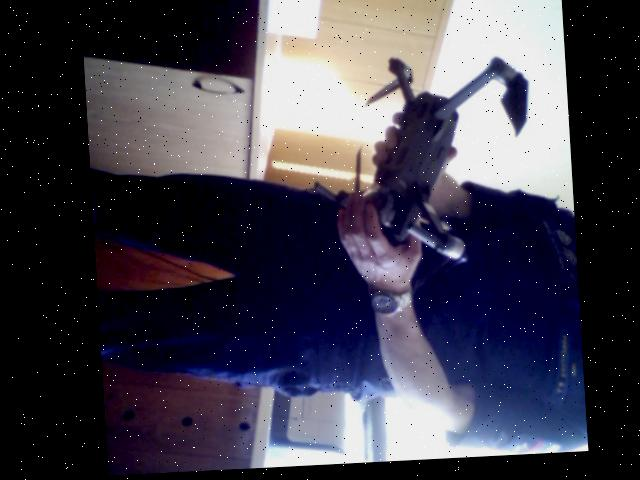drone: (304, 36, 545, 294)
